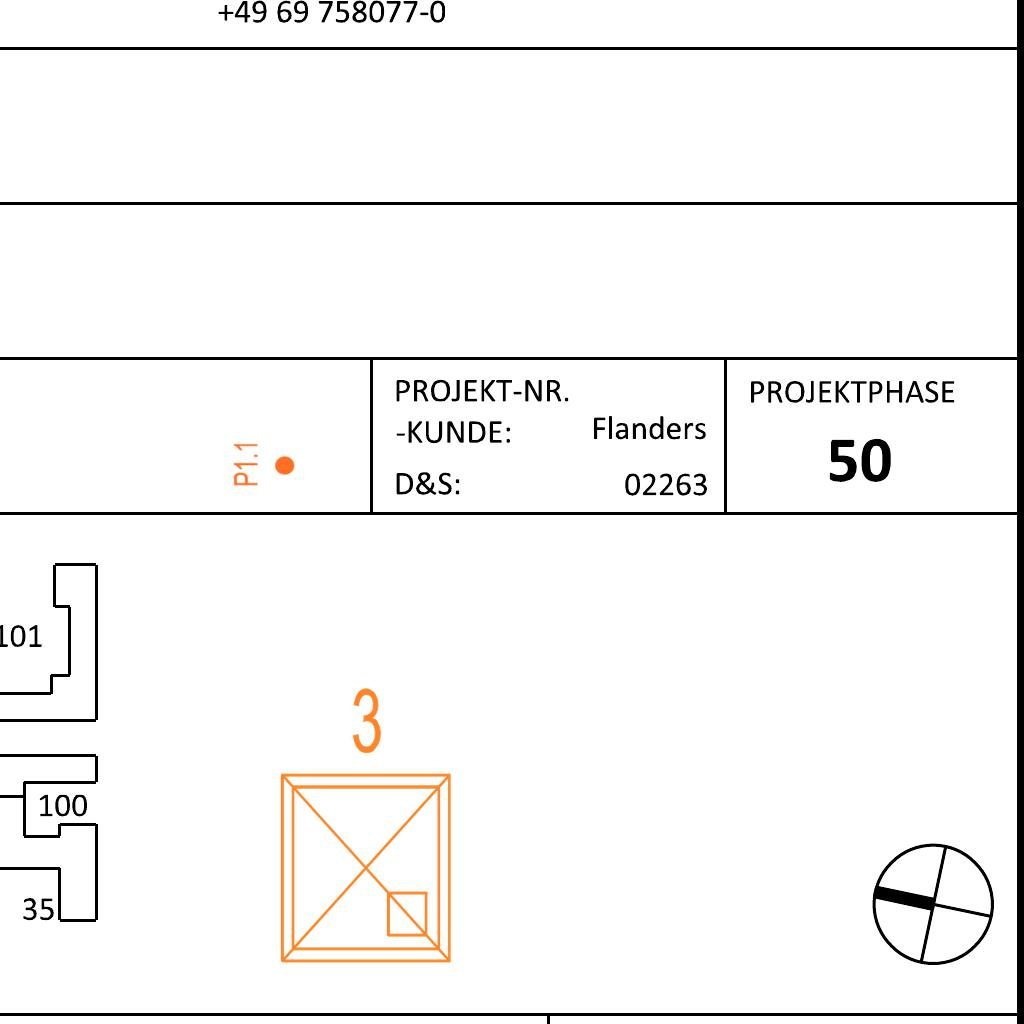Downlight_LED_Einbauleuchten_Flur: (232, 441, 296, 487)
Einbaudownlights_LED_Konferenzraeume: (258, 677, 466, 977)
